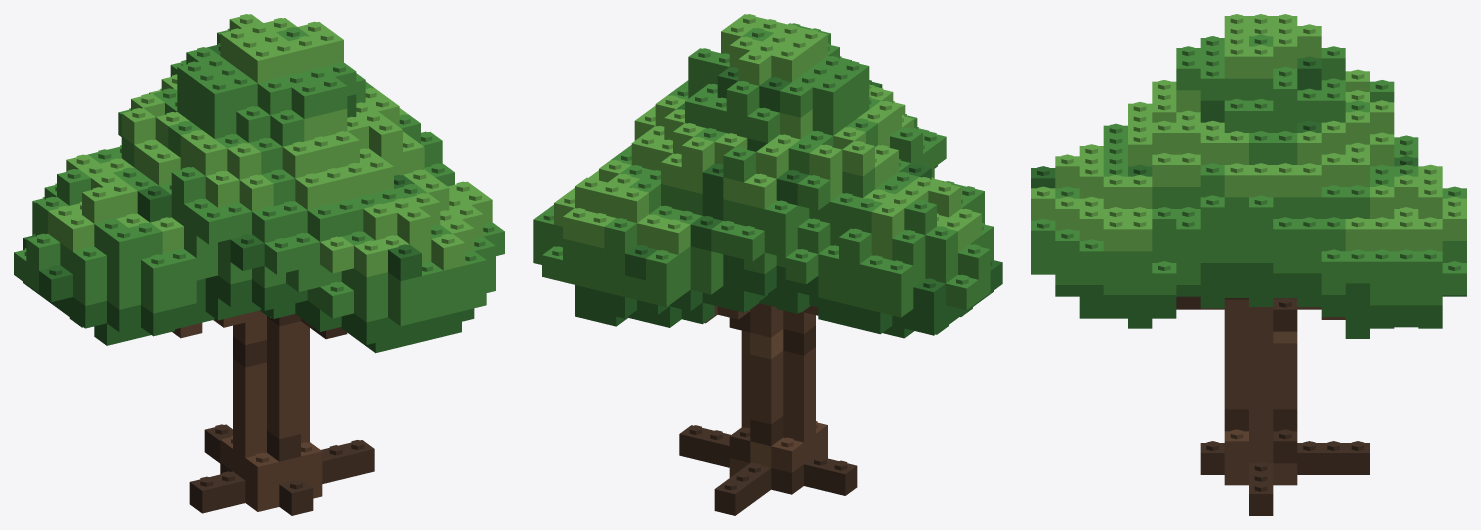
The model's file is Tree_Oak.fbx.
The picture shows the model from 3 angles, left to right: view 1: azimuth 30°, elevation 25°; view 2: azimuth 150°, elevation 25°; view 3: azimuth 270°, elevation 25°; orthographic projection. The views are drawn at different scales.
Visible parts, largest first — view 1: Tree_Oak_Leaf, Tree_Oak_LeafLight, Tree_Oak_LeafDark, Tree_Oak_Bark, Tree_Oak_BarkDark; view 2: Tree_Oak_Leaf, Tree_Oak_LeafLight, Tree_Oak_LeafDark, Tree_Oak_Bark, Tree_Oak_BarkDark, Tree_Oak_BarkLight; view 3: Tree_Oak_Leaf, Tree_Oak_LeafLight, Tree_Oak_LeafDark, Tree_Oak_Bark, Tree_Oak_BarkDark.
Part boxes in pixels (<box>): Tree_Oak_Leaf: <box>14,27,504,326</box>; Tree_Oak_LeafLight: <box>48,14,492,277</box>; Tree_Oak_LeafDark: <box>23,43,474,353</box>; Tree_Oak_Bark: <box>172,310,322,511</box>; Tree_Oak_BarkDark: <box>189,314,374,515</box>; Tree_Oak_Leaf: <box>533,23,993,317</box>; Tree_Oak_LeafLight: <box>554,14,981,260</box>; Tree_Oak_LeafDark: <box>575,67,1002,338</box>; Tree_Oak_Bark: <box>705,303,827,477</box>; Tree_Oak_BarkDark: <box>679,311,857,515</box>; Tree_Oak_BarkLight: <box>750,329,783,467</box>; Tree_Oak_Leaf: <box>1031,34,1466,305</box>; Tree_Oak_LeafLight: <box>1031,14,1466,251</box>; Tree_Oak_LeafDark: <box>1031,56,1466,338</box>; Tree_Oak_Bark: <box>1200,298,1345,485</box>; Tree_Oak_BarkDark: <box>1176,296,1369,515</box>.
Bounding box in the file's own units: 18 × 20.18 × 18.
